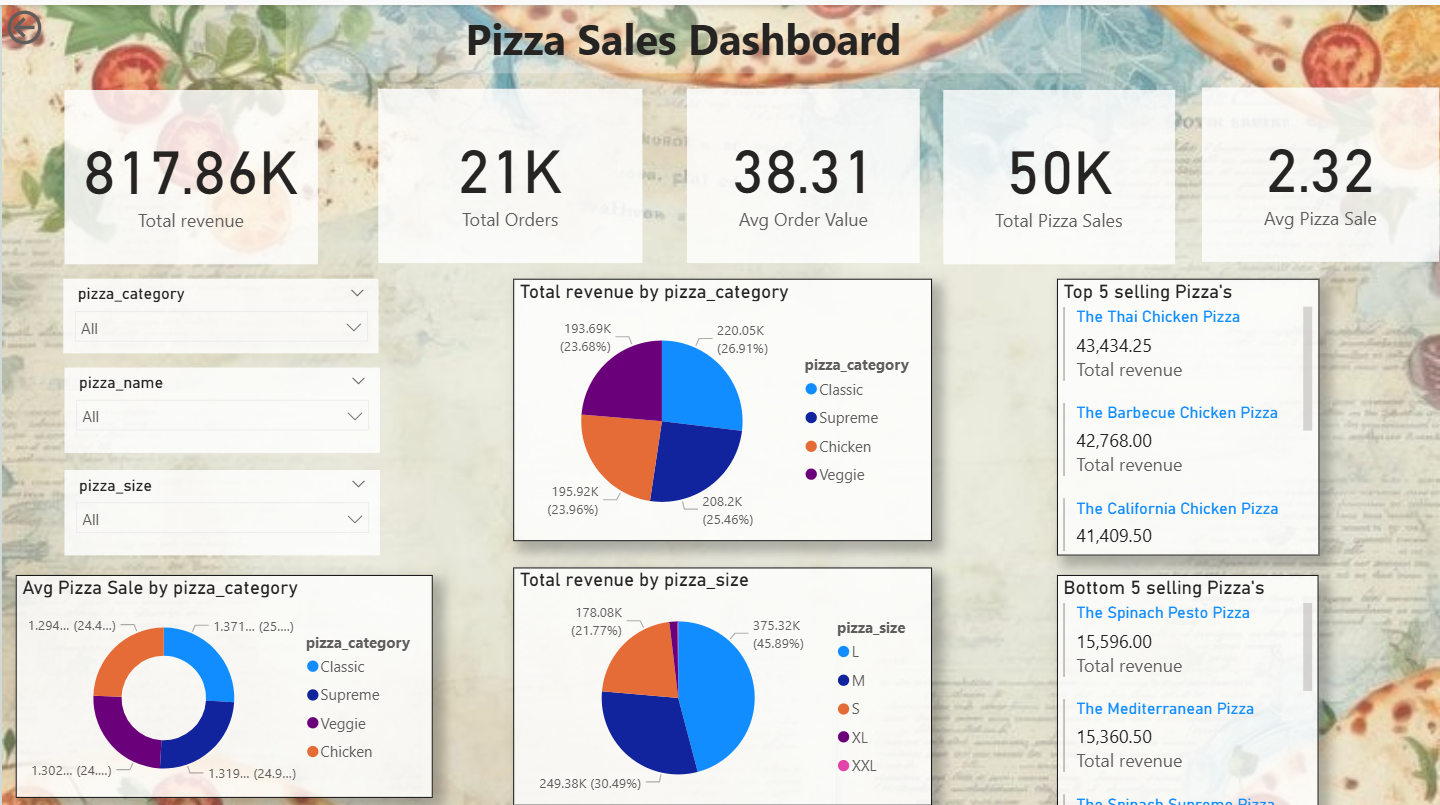

What the dashboard file says about the page in this screenshot:
{"tool":"powerbi","page":{"name":"Page 1","canvas":[1280,720],"ordinal":0},"visuals":[{"type":"card","fields":{"Values":["Measure.Total revenue"]},"box":[55.5,76,225.5,155.6],"z":0},{"type":"card","fields":{"Values":["Measure.Total Orders"]},"box":[335.3,74.8,235.2,155.6],"z":1000},{"type":"card","fields":{"Values":["Measure.Avg Order Value"]},"box":[610.3,74.8,207.4,155.6],"z":2000},{"type":"actionButton","box":[0,0,100,40],"z":3000},{"type":"card","fields":{"Values":["Measure.Total Pizza Sales"]},"box":[838.2,76,206.2,155.6],"z":4000},{"type":"card","fields":{"Values":["Measure.Avg Pizza Sale"]},"box":[1068.5,73.6,211.1,155.6],"z":5000},{"type":"textbox","box":[252.3,0,708.1,60.7],"z":6000},{"type":"slicer","fields":{"Values":["pizza_sales.pizza_category"]},"box":[54.3,243.6,281,66.3],"z":7000},{"type":"slicer","fields":{"Values":["pizza_sales.pizza_name"]},"box":[55.5,323.2,281,76],"z":8000},{"type":"slicer","fields":{"Values":["pizza_sales.pizza_size"]},"box":[55.5,413.7,281,76],"z":9000},{"type":"pieChart","fields":{"Category":["pizza_sales.pizza_category"],"Y":["Measure.Total revenue"]},"box":[454.6,244,372.5,233.3],"z":10000},{"type":"pieChart","fields":{"Category":["pizza_sales.pizza_size"],"Y":["Measure.Total revenue"]},"box":[454.6,501,372.5,211.8],"z":11000},{"type":"donutChart","fields":{"Category":["pizza_sales.pizza_category"],"Y":["Measure.Avg Pizza Sale"]},"box":[11.7,507.8,371.4,198.7],"z":12000},{"type":"multiRowCard","title":"Top 5 selling Pizza''s","fields":{"Values":["Measure.Total revenue","pizza_sales.pizza_name"]},"box":[939,244,233.3,246.3],"z":13000},{"type":"multiRowCard","title":"Bottom 5 selling Pizza''s","fields":{"Values":["Measure.Total revenue","pizza_sales.pizza_name"]},"box":[939.5,507.7,232.8,212.3],"z":14000}]}

Visuals, with their boxes in screenshot pixels (x1, y1, x2, y2), scaled from the page's 1280x720 canvas onto the 1440x805 screenshot:
card - Measure.Total revenue: (left=62, top=85, right=316, bottom=259)
card - Measure.Total Orders: (left=377, top=84, right=642, bottom=258)
card - Measure.Avg Order Value: (left=687, top=84, right=920, bottom=258)
actionButton: (left=0, top=0, right=112, bottom=45)
card - Measure.Total Pizza Sales: (left=943, top=85, right=1175, bottom=259)
card - Measure.Avg Pizza Sale: (left=1202, top=82, right=1439, bottom=256)
textbox: (left=284, top=0, right=1080, bottom=68)
slicer - pizza_sales.pizza_category: (left=61, top=272, right=377, bottom=346)
slicer - pizza_sales.pizza_name: (left=62, top=361, right=379, bottom=446)
slicer - pizza_sales.pizza_size: (left=62, top=463, right=379, bottom=548)
pieChart - pizza_sales.pizza_category x Measure.Total revenue: (left=511, top=273, right=930, bottom=534)
pieChart - pizza_sales.pizza_size x Measure.Total revenue: (left=511, top=560, right=930, bottom=797)
donutChart - pizza_sales.pizza_category x Measure.Avg Pizza Sale: (left=13, top=568, right=431, bottom=790)
"Top 5 selling Pizza''s" multiRowCard: (left=1056, top=273, right=1319, bottom=548)
"Bottom 5 selling Pizza''s" multiRowCard: (left=1057, top=568, right=1319, bottom=804)
